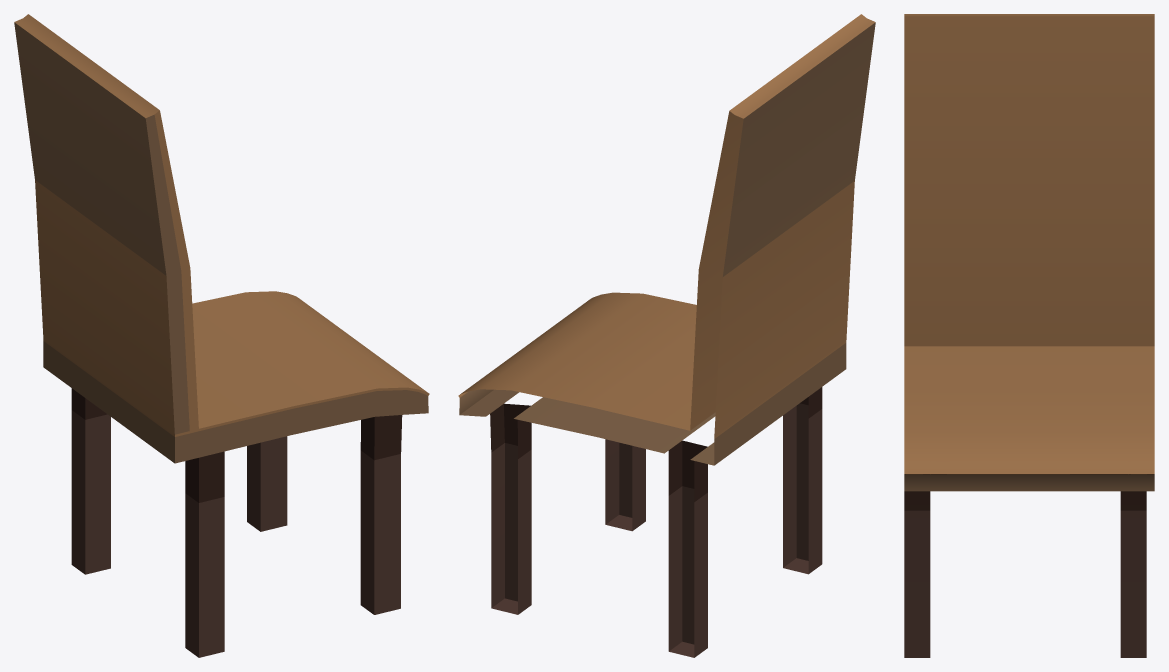
The model's file is chair_kitchen.FBX.
3 views of the same model, side by side, from view 1: azimuth 30°, elevation 25°; view 2: azimuth 150°, elevation 25°; view 3: azimuth 270°, elevation 25° (orthographic). The views are drawn at different scales.
Visible parts, largest first — view 1: chair_kitchen; view 2: chair_kitchen; view 3: chair_kitchen.
Part boxes in pixels (x1,y1,x2,y2): chair_kitchen: (14, 14, 429, 657); chair_kitchen: (458, 14, 875, 657); chair_kitchen: (904, 14, 1154, 657).
Bounding box in the file's own units: 69.36 × 130 × 55.61.
1 material, 1 textured.
